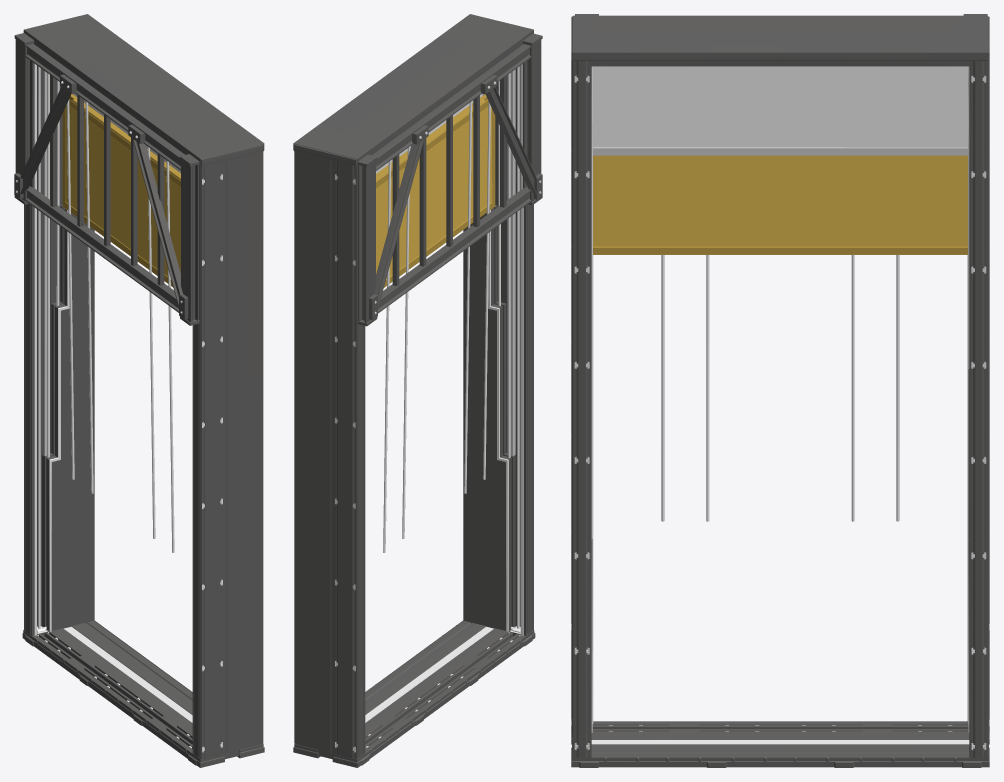
3 views of the same model, side by side, from view 1: azimuth 30°, elevation 25°; view 2: azimuth 150°, elevation 25°; view 3: azimuth 270°, elevation 25° (orthographic). The views are drawn at different scales.
Visible parts, largest first — view 1: SM_H_Customiz_SlidingDoor_01_Frame; view 2: SM_H_Customiz_SlidingDoor_01_Frame; view 3: SM_H_Customiz_SlidingDoor_01_Frame.
Part boxes in pixels (x1,y1,x2,y2): SM_H_Customiz_SlidingDoor_01_Frame: (14, 14, 264, 767); SM_H_Customiz_SlidingDoor_01_Frame: (293, 14, 542, 767); SM_H_Customiz_SlidingDoor_01_Frame: (571, 14, 989, 767).
Size of the model in its own units: 371 by 93.76 by 700.
